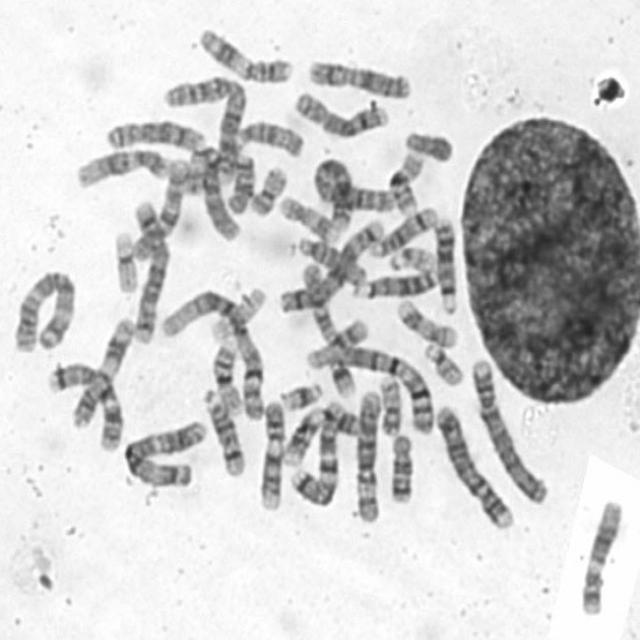A1: (156, 282, 265, 421), (302, 338, 437, 436)
A2: (158, 69, 250, 187), (309, 151, 395, 225)
A3: (119, 413, 209, 489), (7, 263, 79, 354)
B4: (466, 351, 552, 505), (430, 396, 517, 532)
B5: (274, 211, 387, 315), (125, 195, 172, 344)
C10: (300, 257, 366, 375), (128, 154, 191, 263)
C11: (65, 311, 137, 429), (194, 21, 297, 85)
C12: (576, 492, 626, 617), (71, 141, 172, 190)
C6: (192, 141, 245, 243), (352, 384, 385, 525)
C7: (41, 356, 125, 454), (284, 396, 352, 510)
C8: (289, 84, 391, 140), (102, 113, 206, 153)
C9: (278, 398, 364, 467), (255, 396, 287, 512)
D13: (349, 263, 440, 301), (431, 212, 461, 316)
D14: (198, 383, 248, 478), (366, 200, 441, 260)
D15: (292, 232, 368, 287), (230, 114, 306, 159)
E16: (207, 333, 245, 415), (384, 145, 427, 216)
E17: (392, 293, 460, 348), (276, 189, 342, 245)
E18: (385, 428, 417, 505), (222, 148, 257, 216)
F19: (207, 281, 269, 344), (109, 224, 141, 294)
F20: (245, 159, 290, 218), (374, 368, 405, 436)
G21: (276, 376, 325, 412), (324, 353, 359, 399)
G22: (419, 337, 466, 387), (384, 240, 437, 272)
X: (302, 52, 416, 100)
Y: (400, 123, 457, 164)
